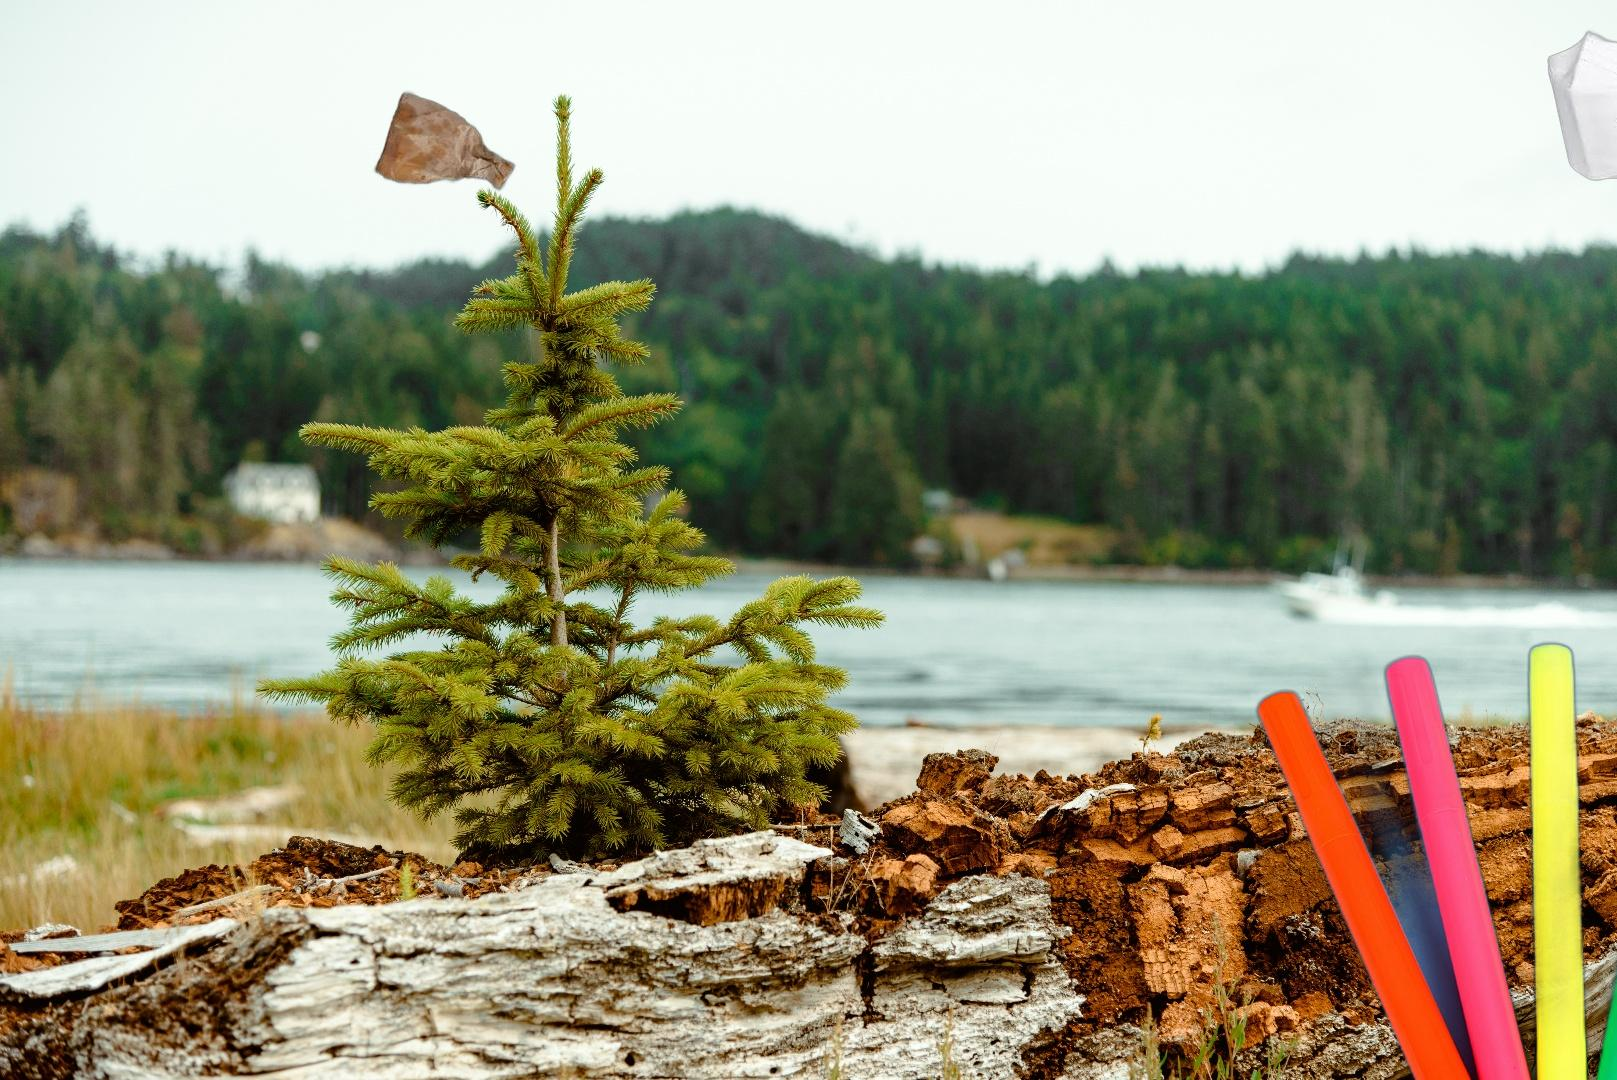paper-bag: (372, 88, 518, 193)
penholder: (1251, 609, 1617, 1080)
trash: (1545, 18, 1617, 183)
